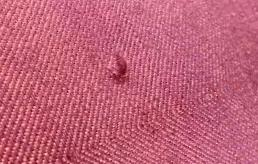knot: (107, 52, 129, 86)
